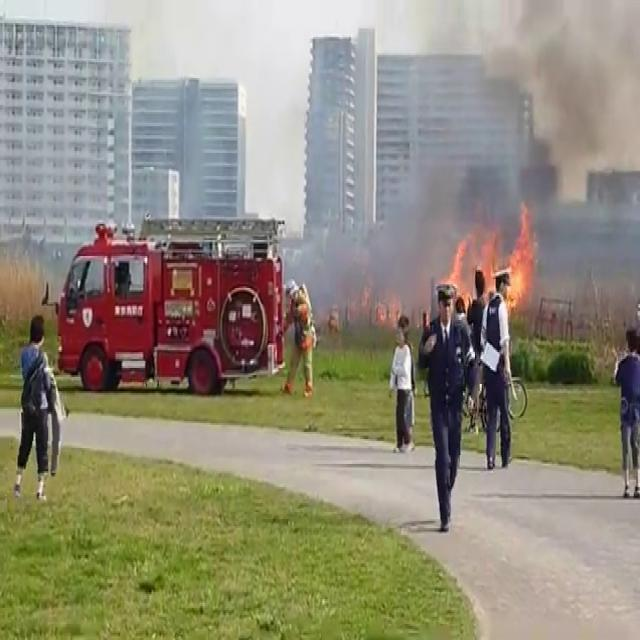Fire: (436, 200, 541, 311)
Smoke: (410, 0, 640, 267)
